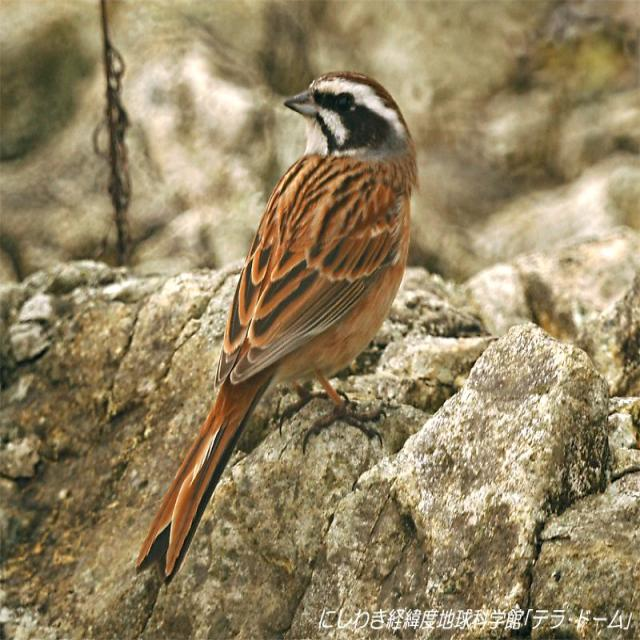bird: (143, 60, 429, 591)
